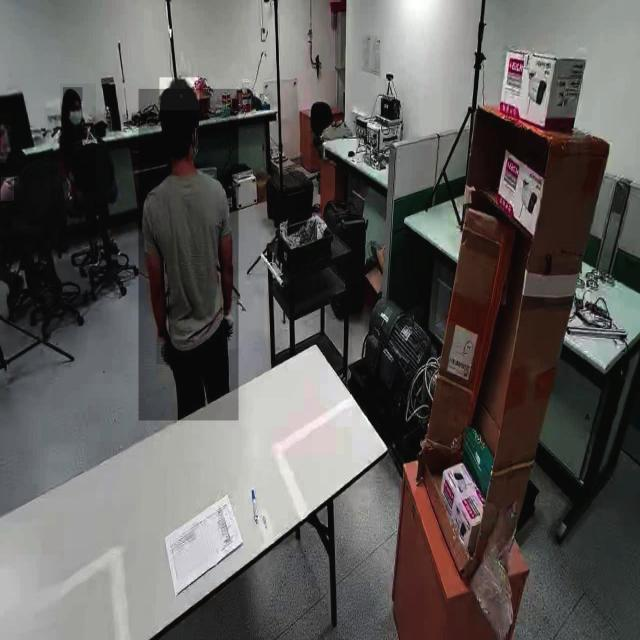face_mask: (64, 100, 84, 130)
face_nomask: (1, 124, 10, 153)
hand_glove: (222, 302, 236, 351), (156, 331, 168, 365)
hand_noglove: (0, 177, 14, 202)
head_nohelmet: (159, 77, 199, 111), (62, 87, 82, 102), (1, 112, 11, 124)
person: (138, 89, 238, 421), (60, 83, 96, 193)
